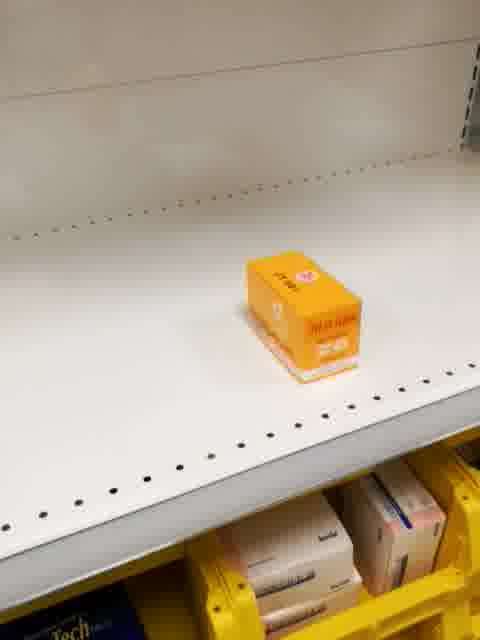jasminetea: (243, 246, 363, 387)
